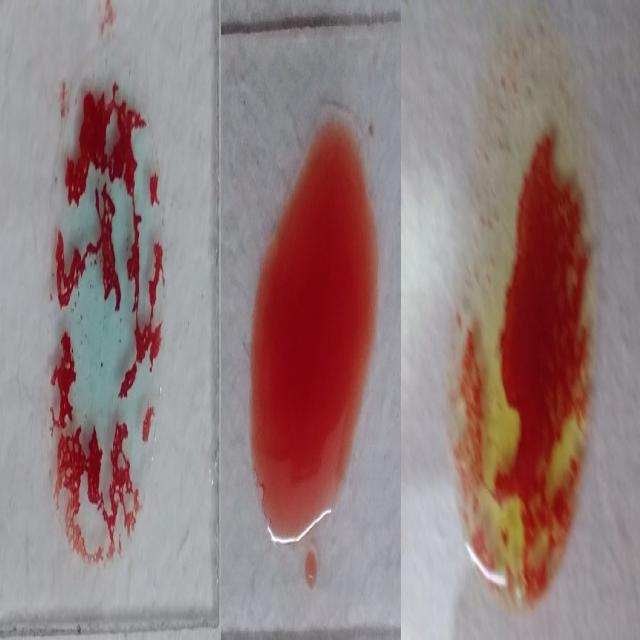A: (44, 54, 161, 576)
B: (445, 58, 596, 593)
